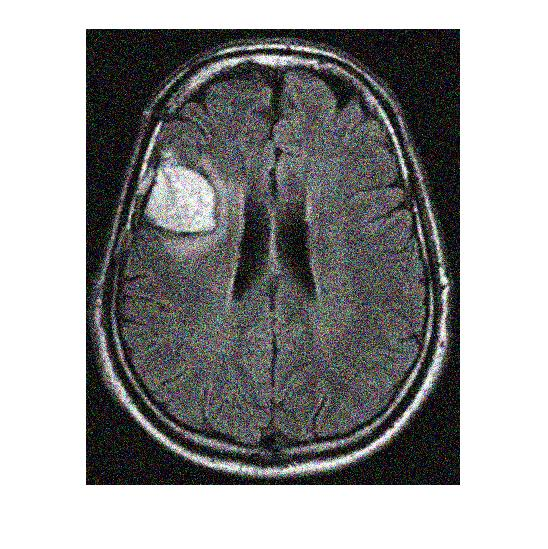Brain_Cancer: (144, 161, 222, 241)
